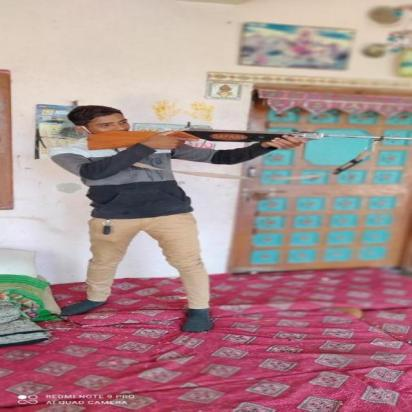Gun: (85, 128, 411, 152)
